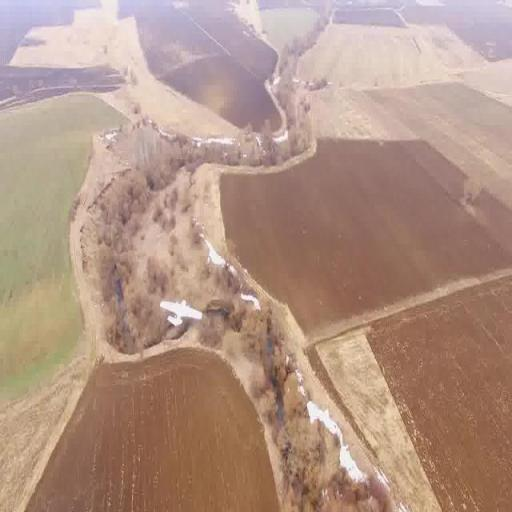uav: (149, 288, 213, 351)
